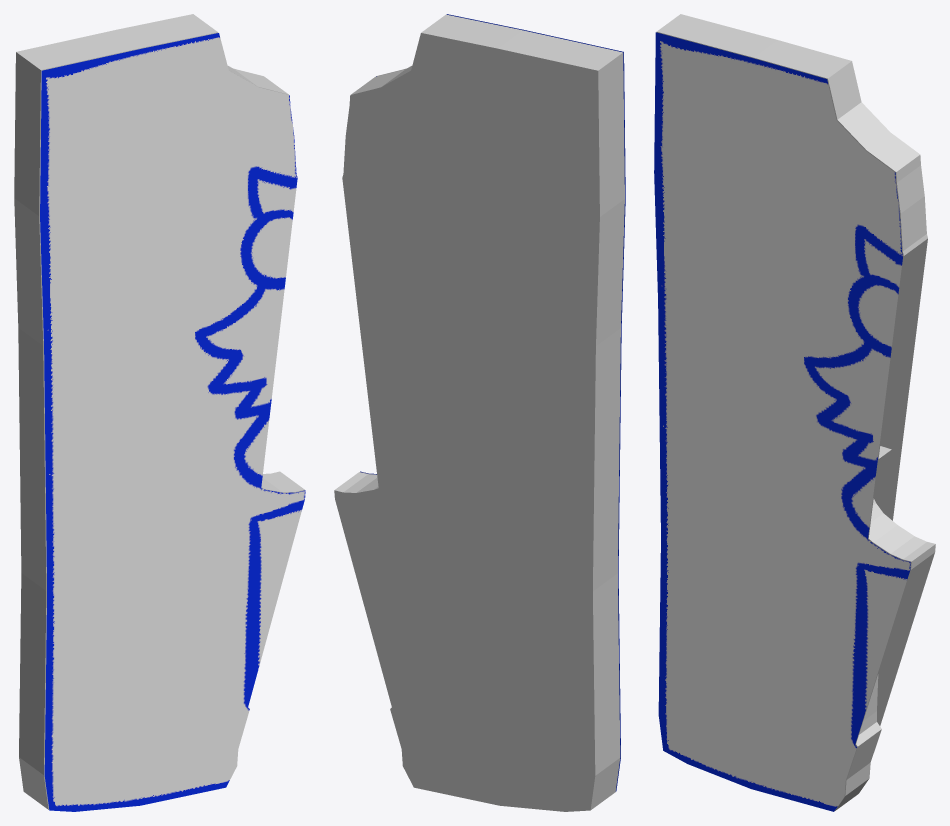
3 views of the same model, side by side, from view 1: azimuth 30°, elevation 25°; view 2: azimuth 150°, elevation 25°; view 3: azimuth 330°, elevation 25° (orthographic). The views are drawn at different scales.
Parts seen in each view (by area): view 1: Out_1_1, Out_1_0; view 2: Out_1_0, Out_1_1; view 3: Out_1_1, Out_1_0.
Part boxes in pixels (x1,y1,x2,y2): Out_1_1: (40, 33, 305, 811); Out_1_0: (14, 14, 304, 809); Out_1_0: (334, 14, 624, 811); Out_1_1: (360, 14, 625, 791); Out_1_1: (654, 32, 910, 811); Out_1_0: (656, 14, 935, 810).
Bounding box in the file's own units: 3.07 × 8.4 × 0.515.
Materials: 2 (1 with a texture image).
